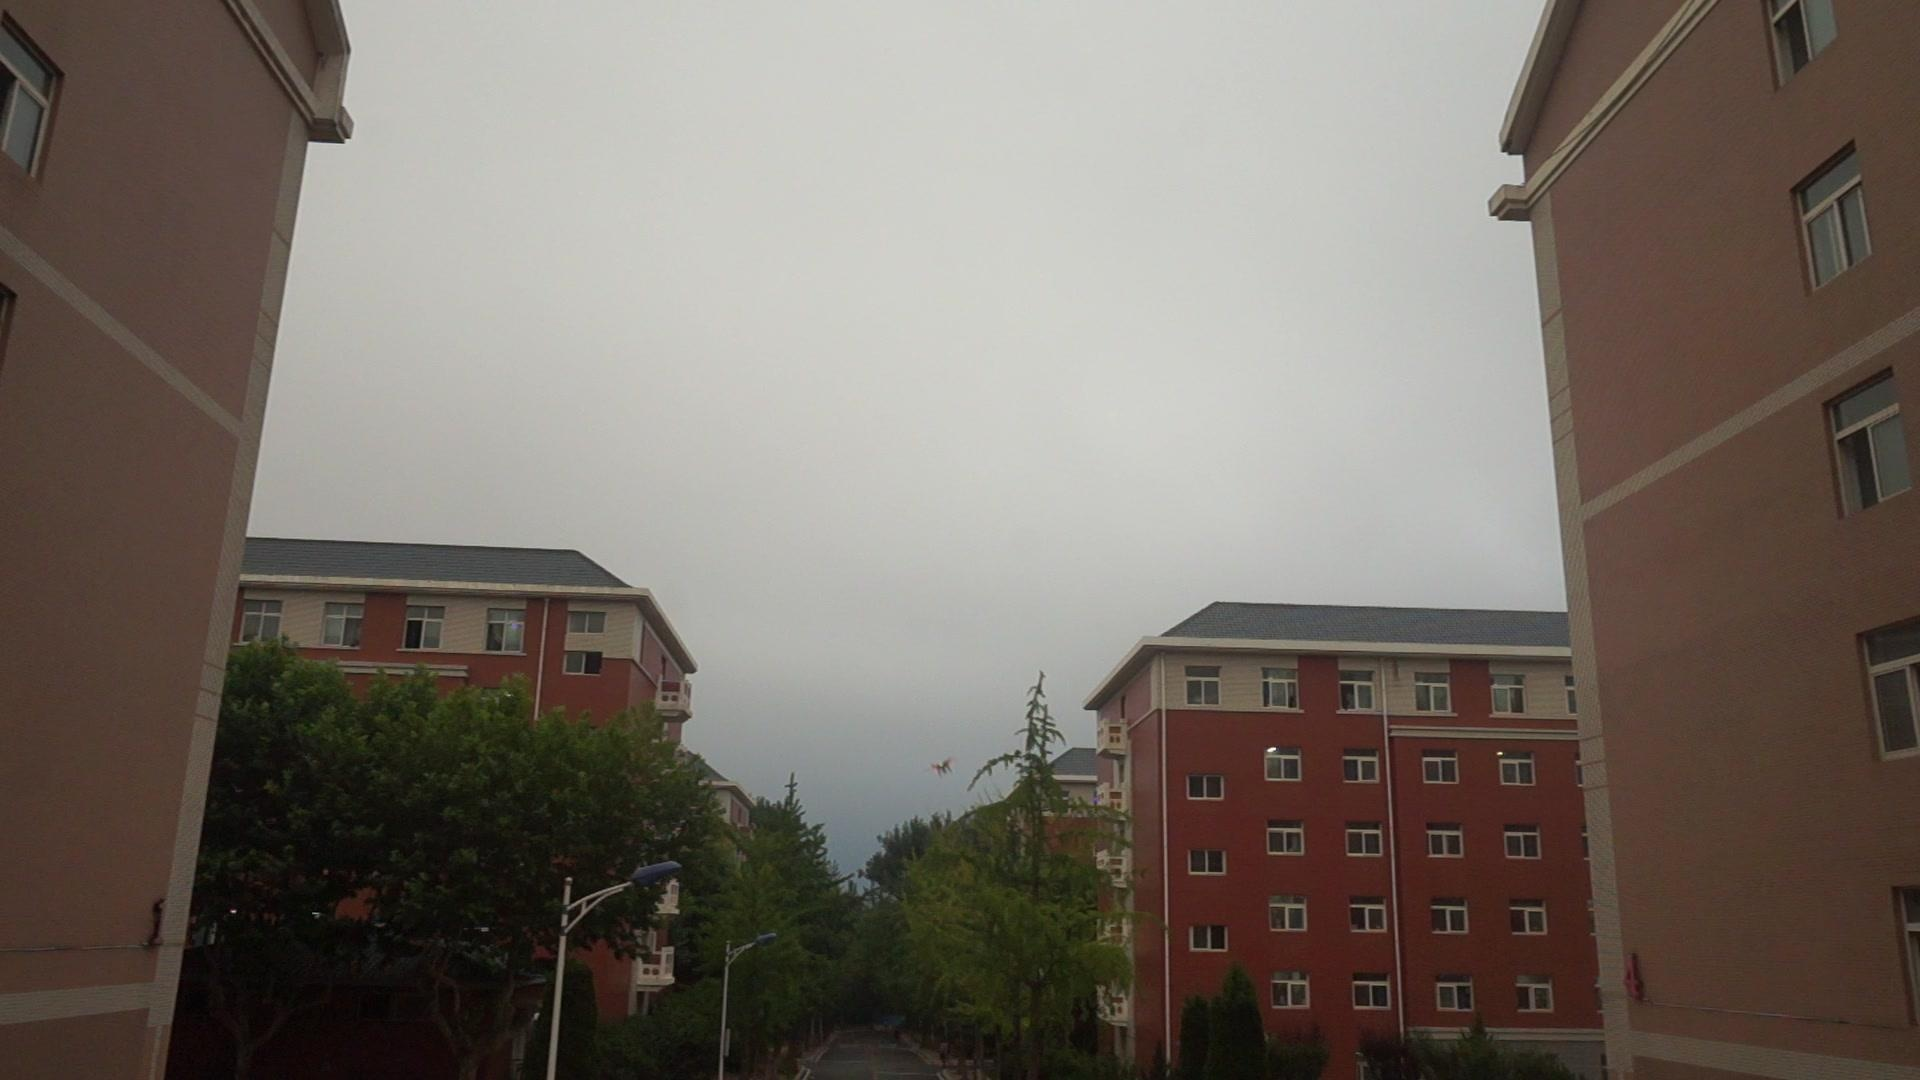UAV: (932, 760, 953, 777)
